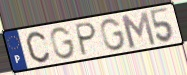5: (148, 6, 176, 45)
C: (25, 31, 52, 64)
G: (99, 17, 127, 52), (49, 26, 77, 61)
M: (119, 10, 158, 49)
P: (75, 21, 99, 58)
